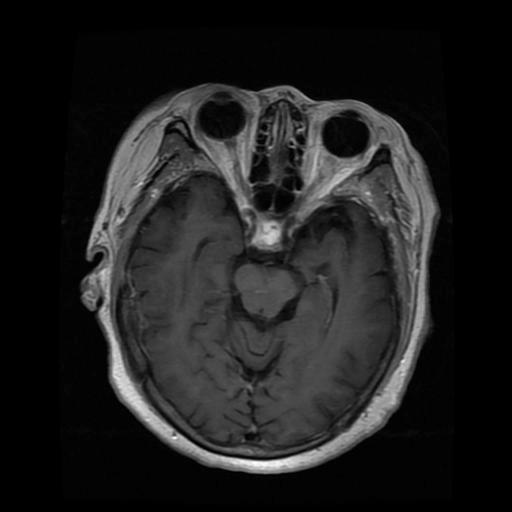Tumour-Pituitary: (240, 215, 305, 257)
